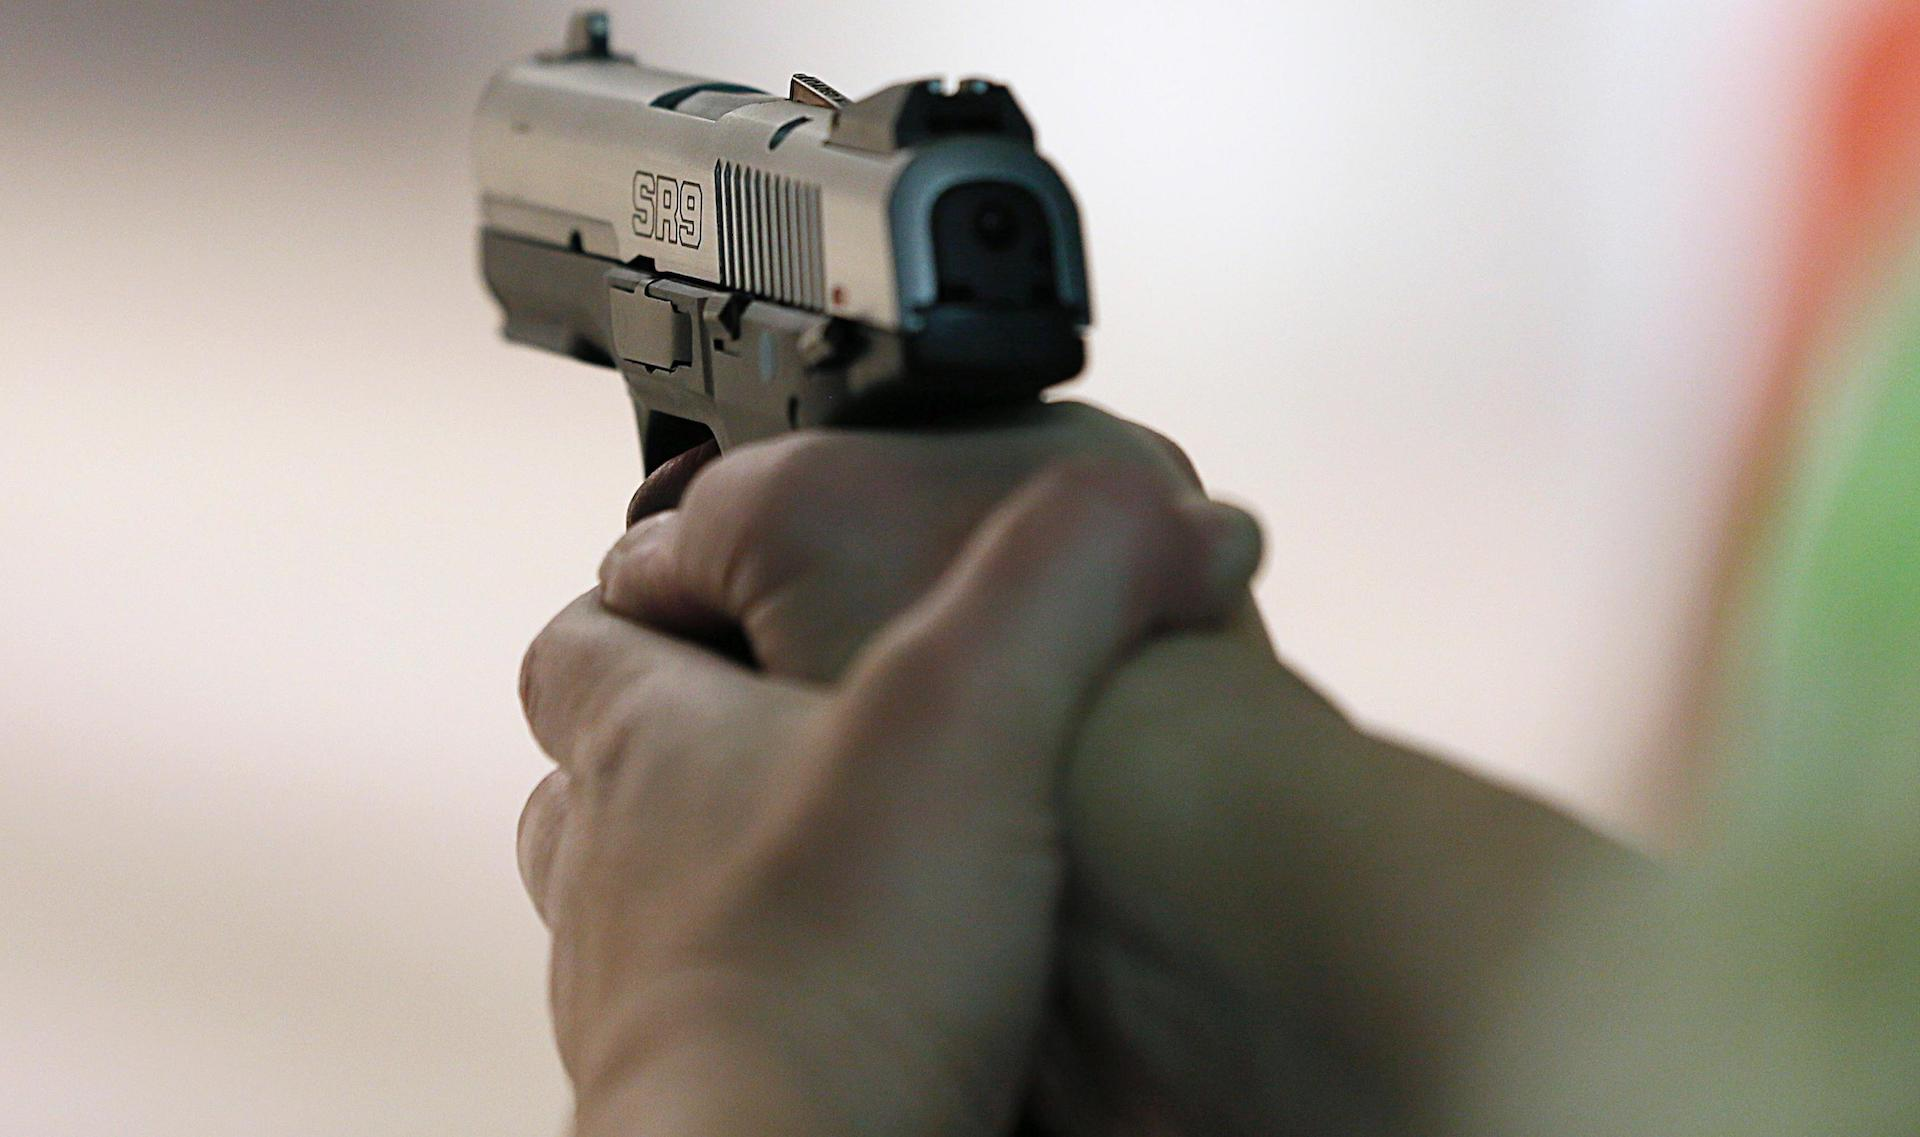pistol: (468, 7, 1097, 502)
